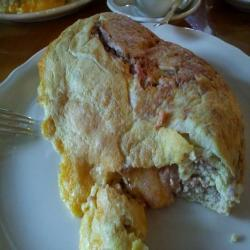omelette: (38, 13, 244, 233)
